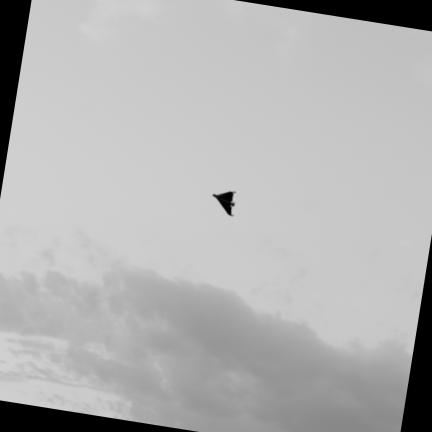Shahed: (213, 191, 234, 216)
